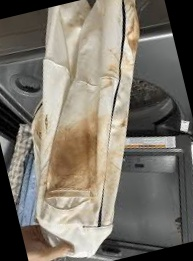earth: (53, 133, 100, 180), (128, 40, 137, 52)
